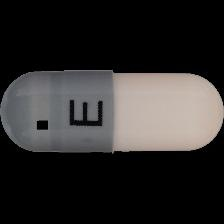61786-546: (0, 0, 224, 224)
